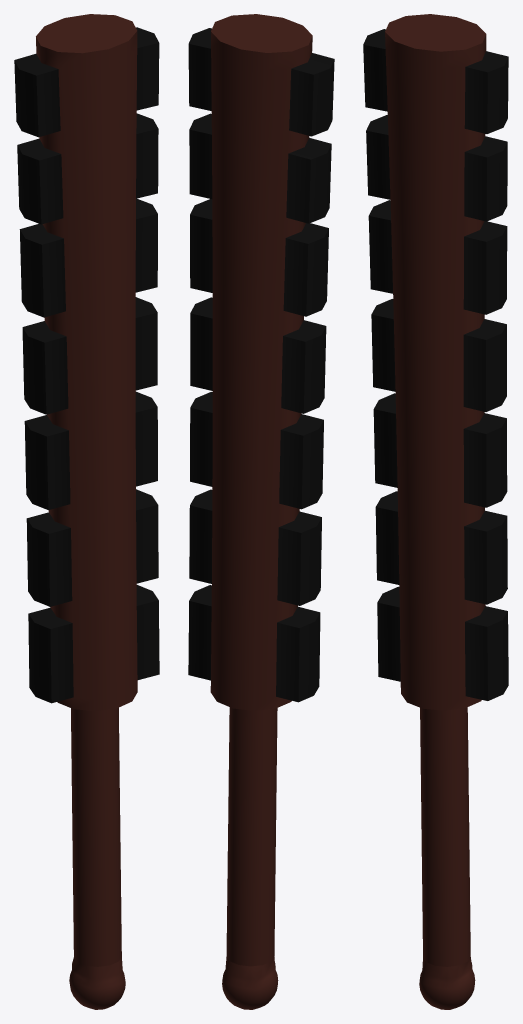
Rendered from A_Masse_Hit.fbx.
3 renders of one model, left to right at view 1: azimuth 30°, elevation 25°; view 2: azimuth 150°, elevation 25°; view 3: azimuth 330°, elevation 25°, orthographic.
Visible parts, largest first — view 1: Cylinder001; view 2: Cylinder001; view 3: Cylinder001.
Boxes of the visible parts, x1,y1,x2,y2 form: Cylinder001: (14,14,159,1009); Cylinder001: (188,14,334,1009); Cylinder001: (363,14,508,1009).
Size of the model in its own units: 28.26 by 194 by 15.45.
